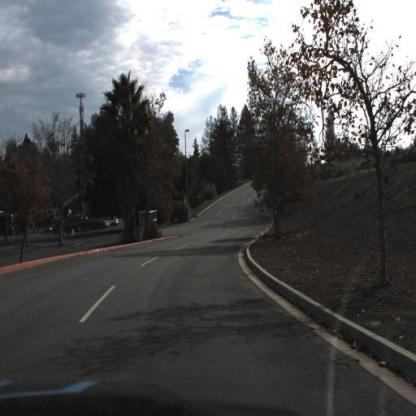car: (107, 216, 121, 228)
